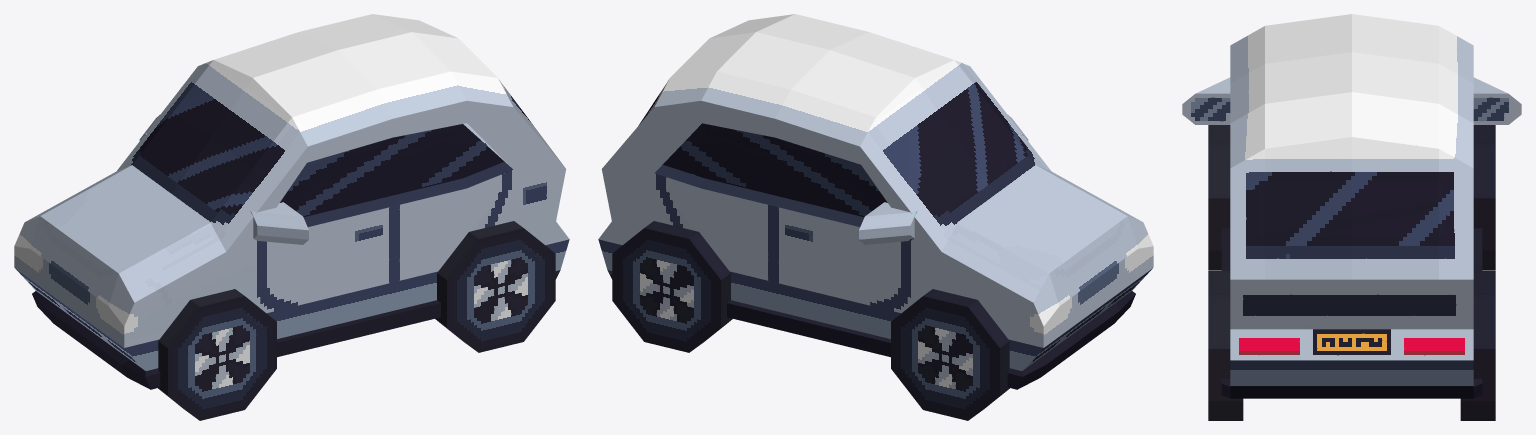
File: white_car.gltf
3 renders of one model, left to right at view 1: azimuth 30°, elevation 25°; view 2: azimuth 150°, elevation 25°; view 3: azimuth 270°, elevation 25°, orthographic. The views are drawn at different scales.
Parts seen in each view (by area): view 1: cuboid; view 2: cuboid; view 3: cuboid.
Boxes of the visible parts, box(x1,y1,x2,y2) form: cuboid: box(14, 14, 569, 420); cuboid: box(598, 14, 1153, 420); cuboid: box(1182, 14, 1521, 420).
Bounding box in the file's own units: 2.05 × 1.2 × 1.22.
Materials: 5 (5 with a texture image).
